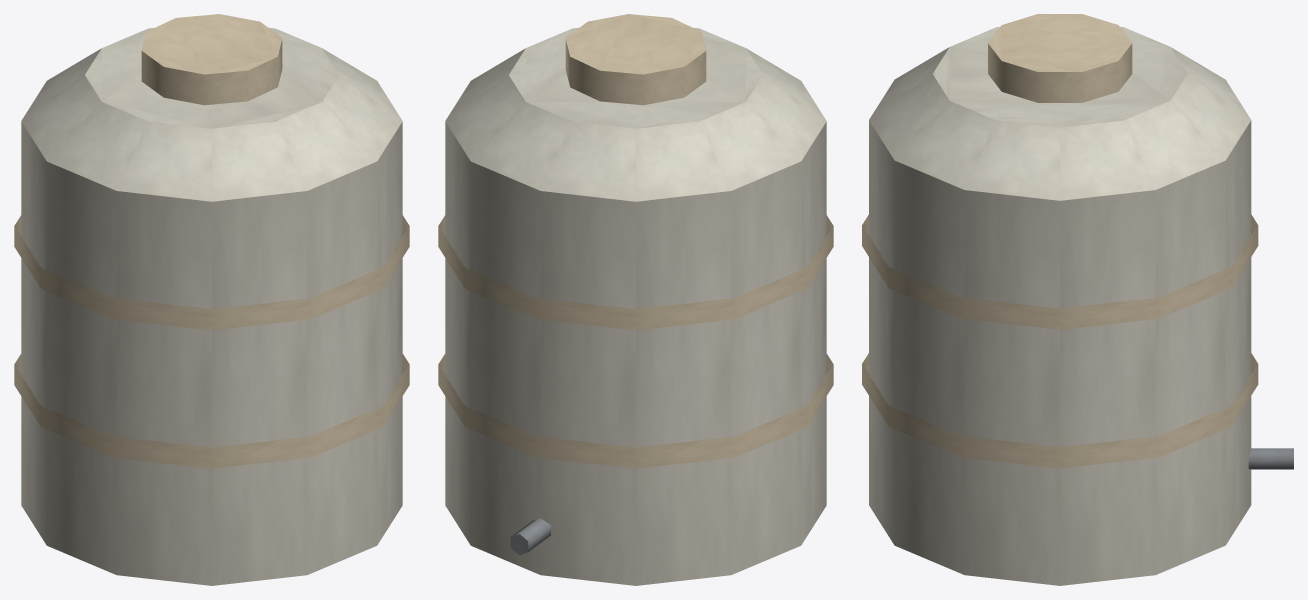
Rendered from FK_WaterTank.fbx.
The picture shows the model from 3 angles, left to right: view 1: azimuth 30°, elevation 25°; view 2: azimuth 150°, elevation 25°; view 3: azimuth 270°, elevation 25°; orthographic projection.
Visible parts, largest first — view 1: FK_WaterTank; view 2: FK_WaterTank; view 3: FK_WaterTank.
Part boxes in pixels (<box>): FK_WaterTank: <box>14,14,409,585</box>; FK_WaterTank: <box>438,14,833,585</box>; FK_WaterTank: <box>862,14,1293,585</box>.
Size of the model in its own units: 0.932 by 1.2 by 1.02.
1 material, 1 textured.
